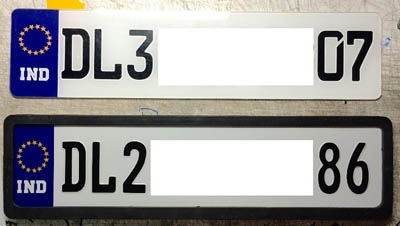inlp: (3, 4, 387, 106), (8, 121, 389, 214)
